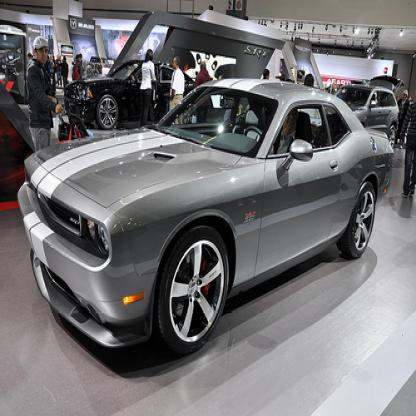Vehicle: (19, 81, 394, 360)
